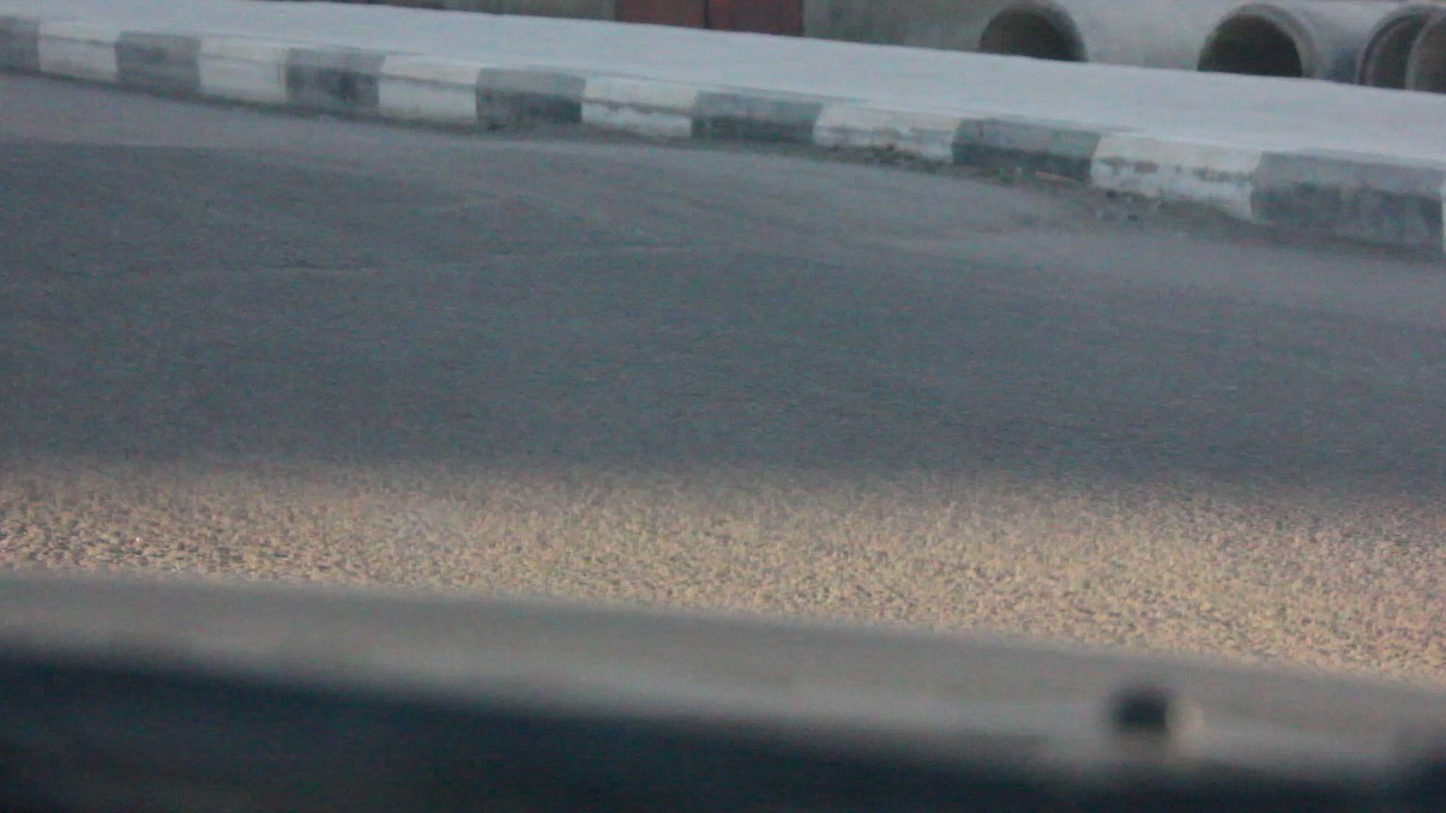Bump: (2, 111, 1222, 288)
